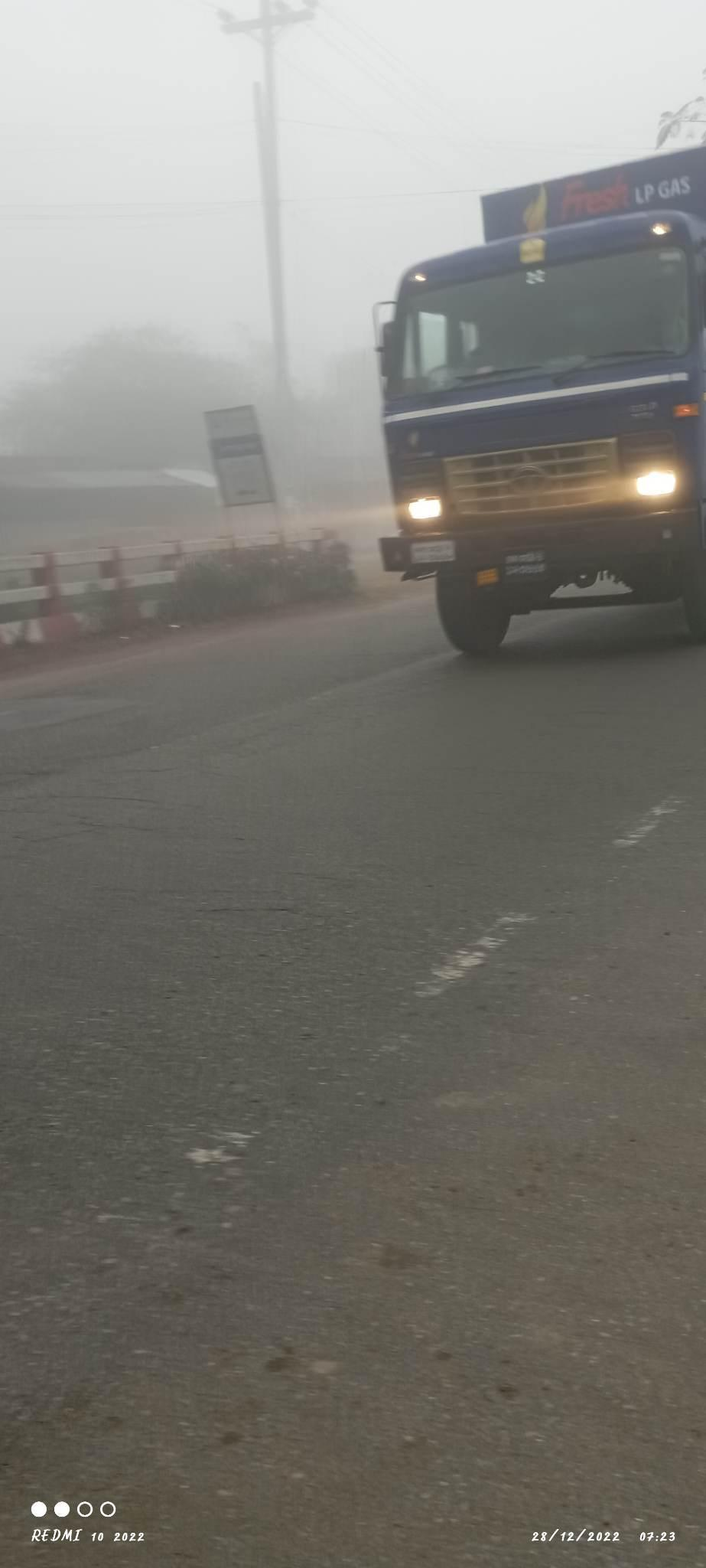Truck: (309, 139, 706, 684)
